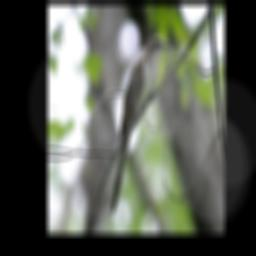Cuckoo: (108, 34, 171, 216)
